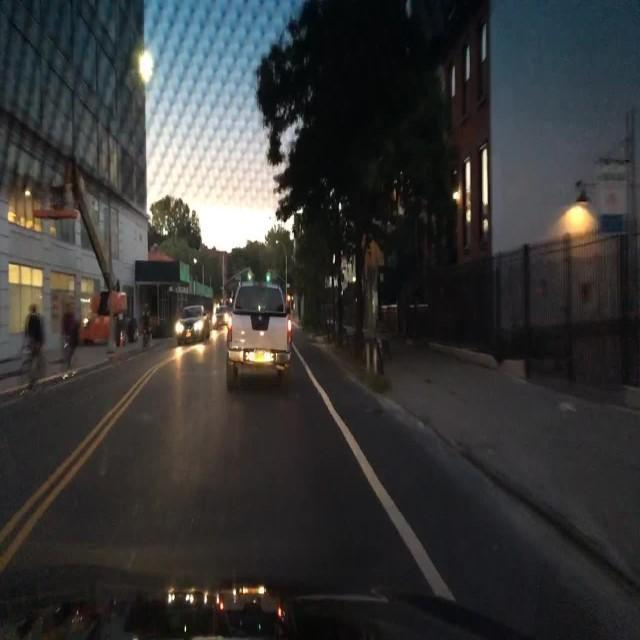normal: (225, 283, 292, 390), (176, 306, 214, 347)
